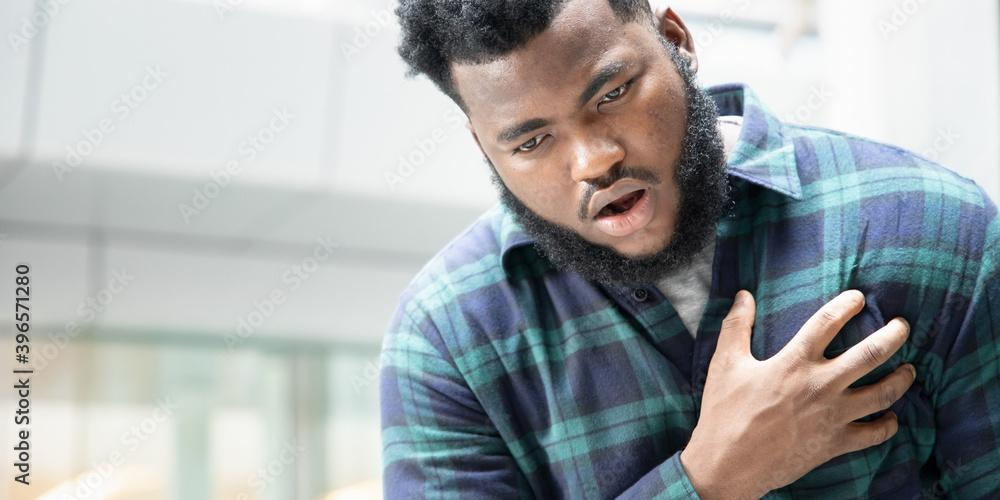pain: (497, 53, 656, 161)
